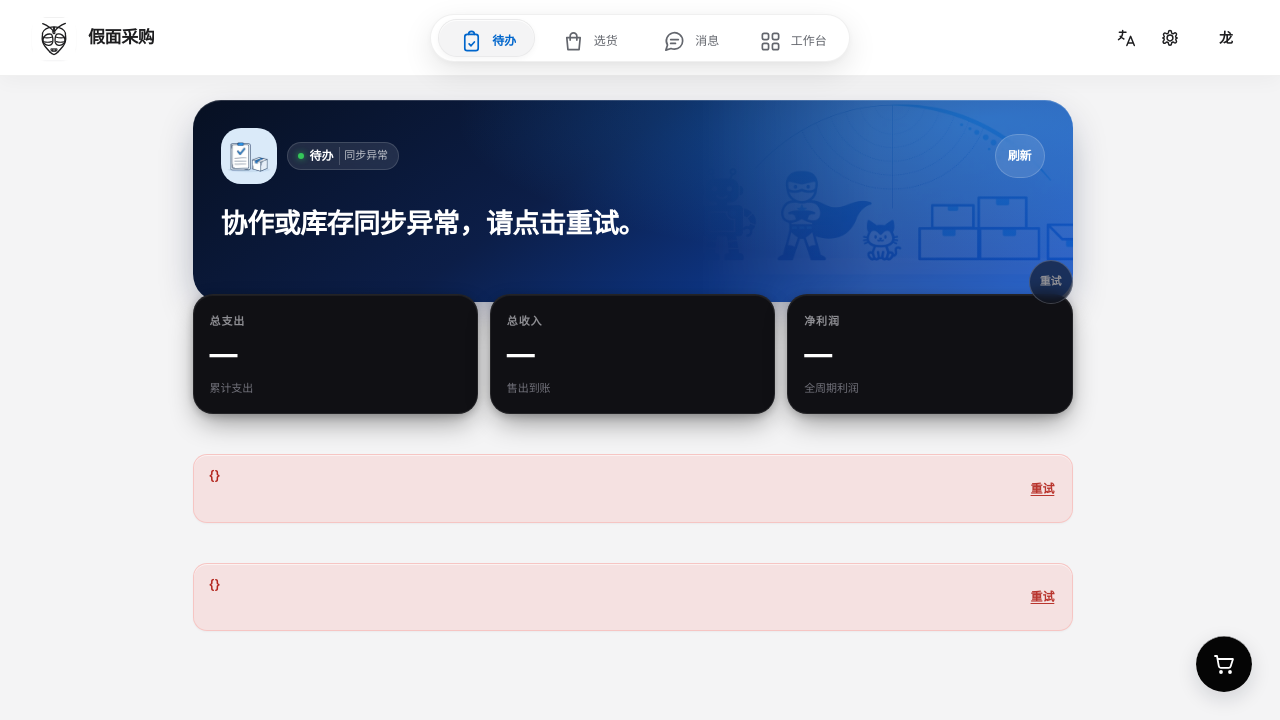
Dashboard favorite synchronization › rejects stale sold favorites in a collection response while retaining an uncertain availability
Click the button with aria-label "选货". click: coordinates (589, 41)
box: [538,19,640,63]
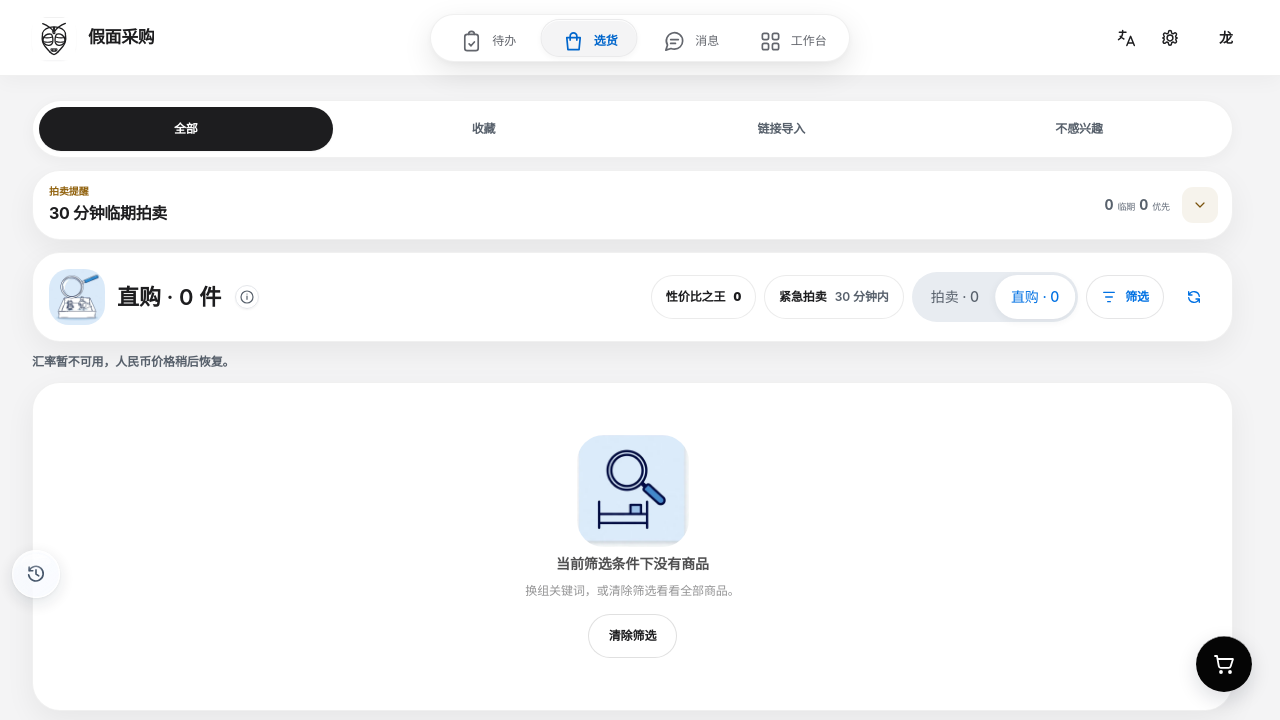
Expected: the element named "在售商品类型" is shown, [912,272,1078,322]
Expected: the tab "收藏" is shown
Click the tab "收藏". click: coordinates (484, 129)
box: [337,107,631,151]
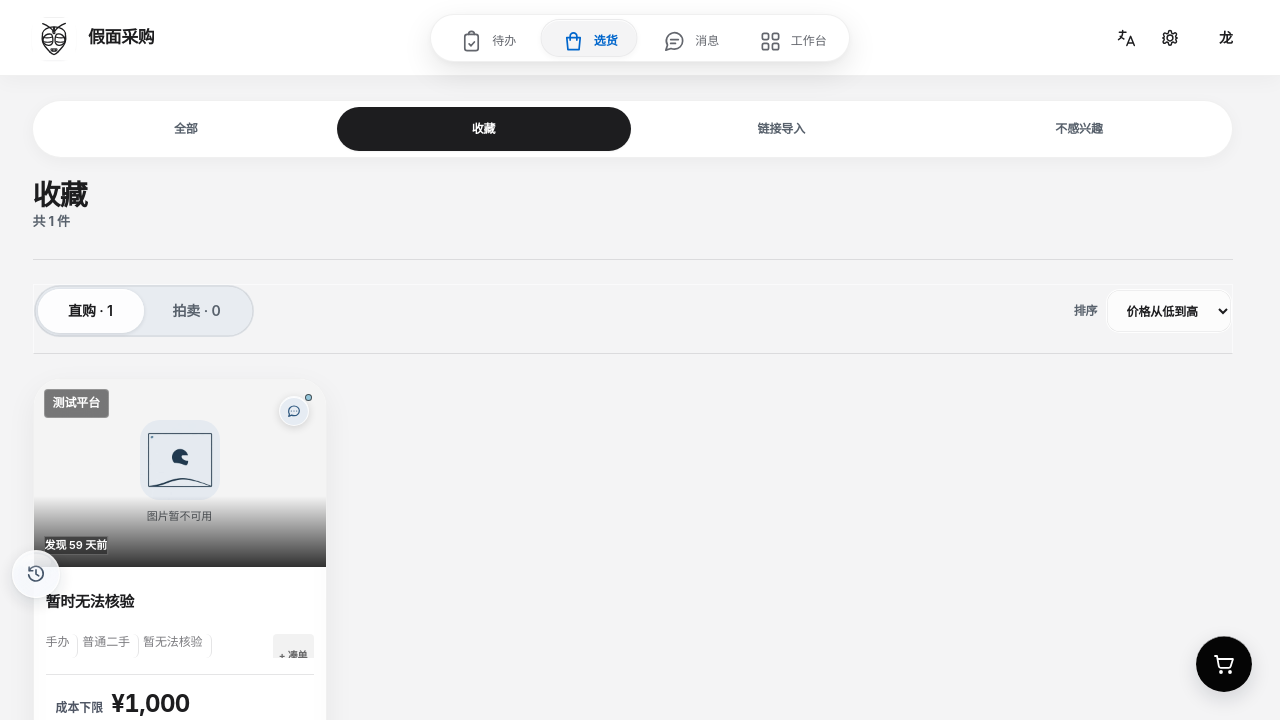
Expected: the text "暂时无法核验" is shown, [46,578,314,626]
